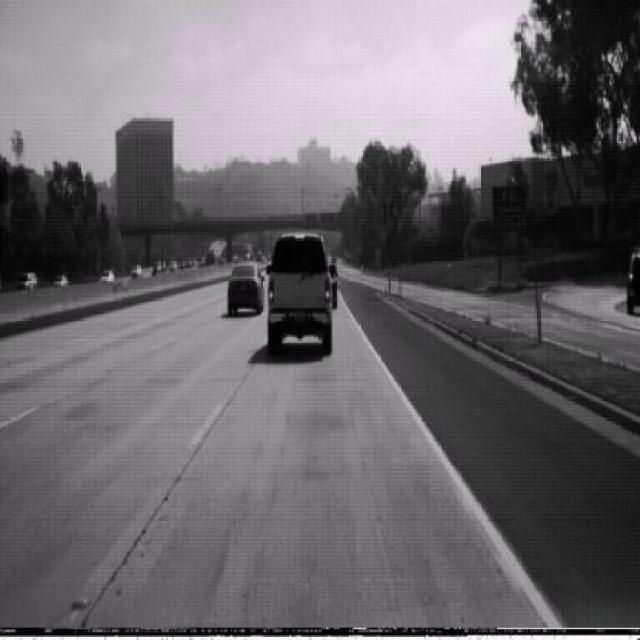addedLane: (377, 191, 400, 234)
